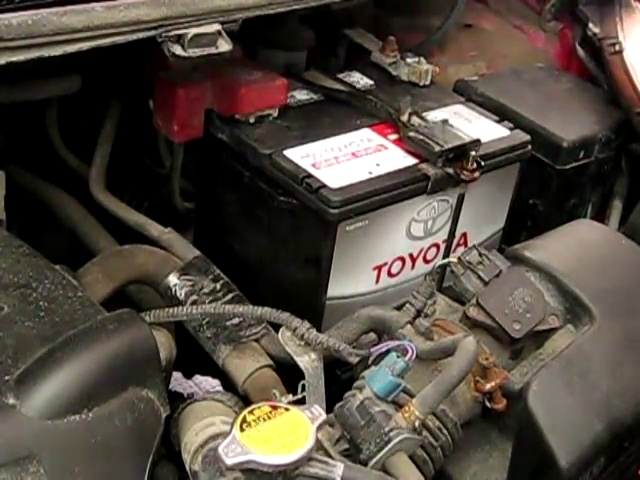battery: (167, 55, 536, 196)
neg_connected: (343, 11, 447, 96)
pos_connected: (149, 51, 291, 144)
